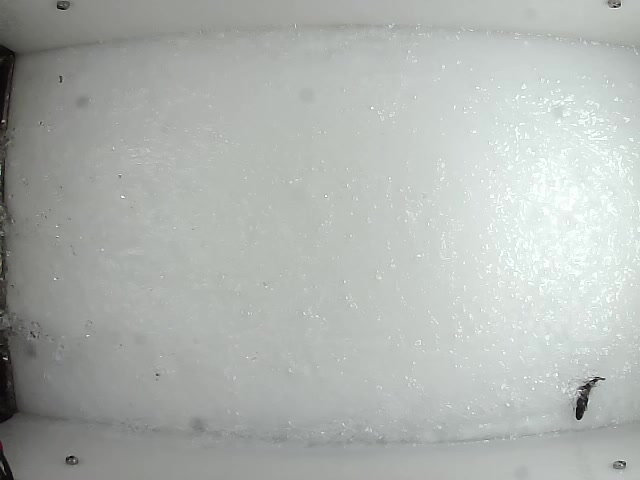fish: (571, 375, 605, 421)
